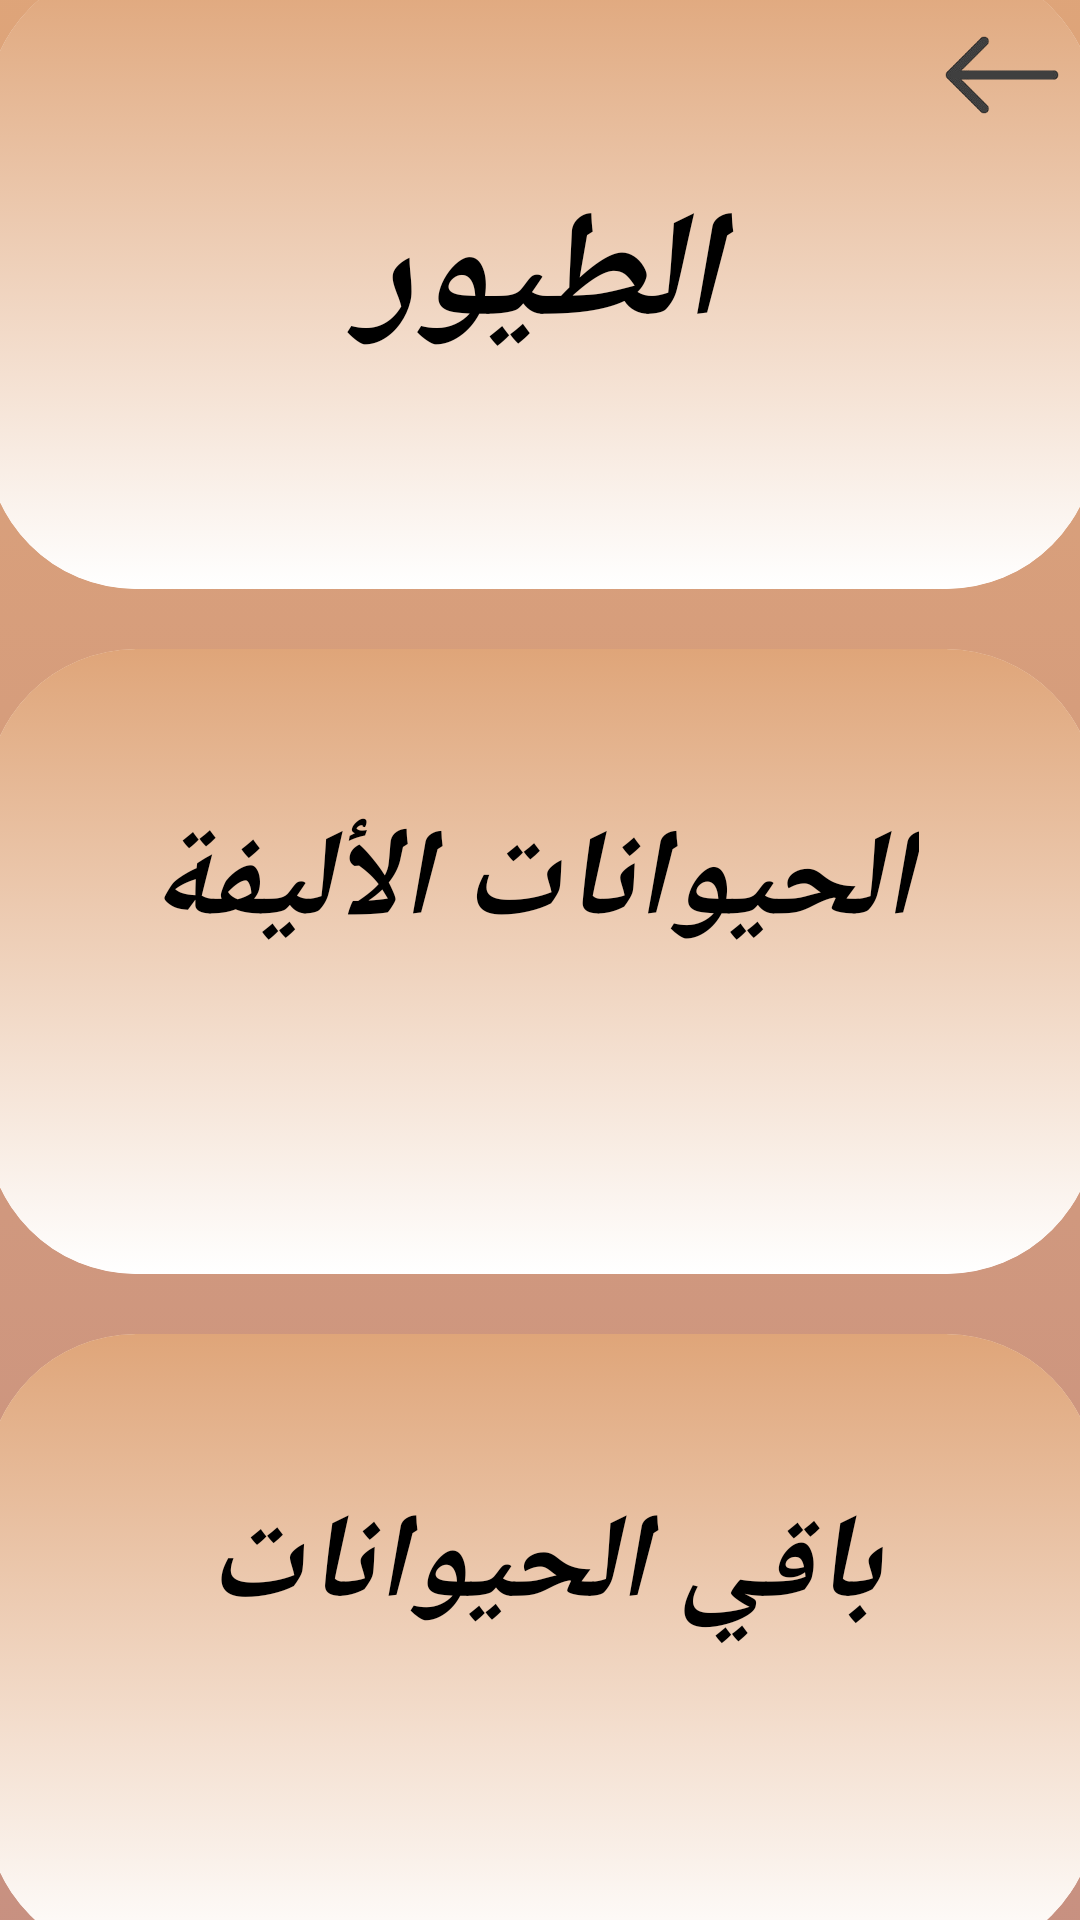

Where to tap for icons on this 1080px x 1920px app screen, as (x,y):
back: (1002,58)
